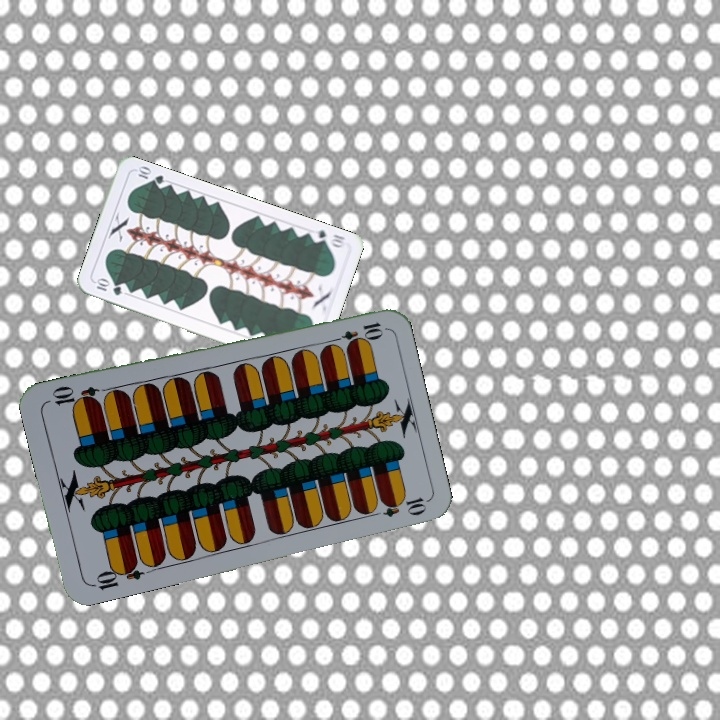E10: (87, 557, 146, 593), (327, 317, 385, 347)
G10: (307, 226, 348, 251), (91, 275, 124, 298)
